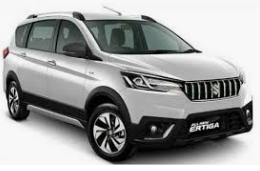car: (1, 10, 254, 164)
